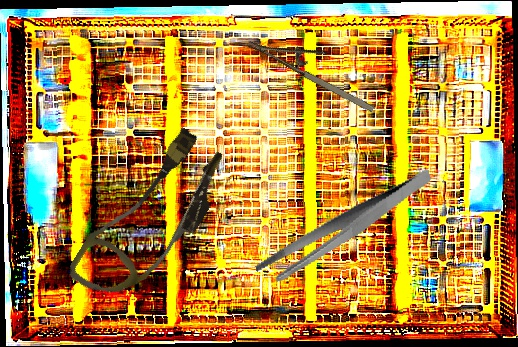Cannula: (64, 115, 239, 321)
Dressing Forceps: (242, 167, 447, 288)
Needle Holder: (246, 15, 387, 117)
